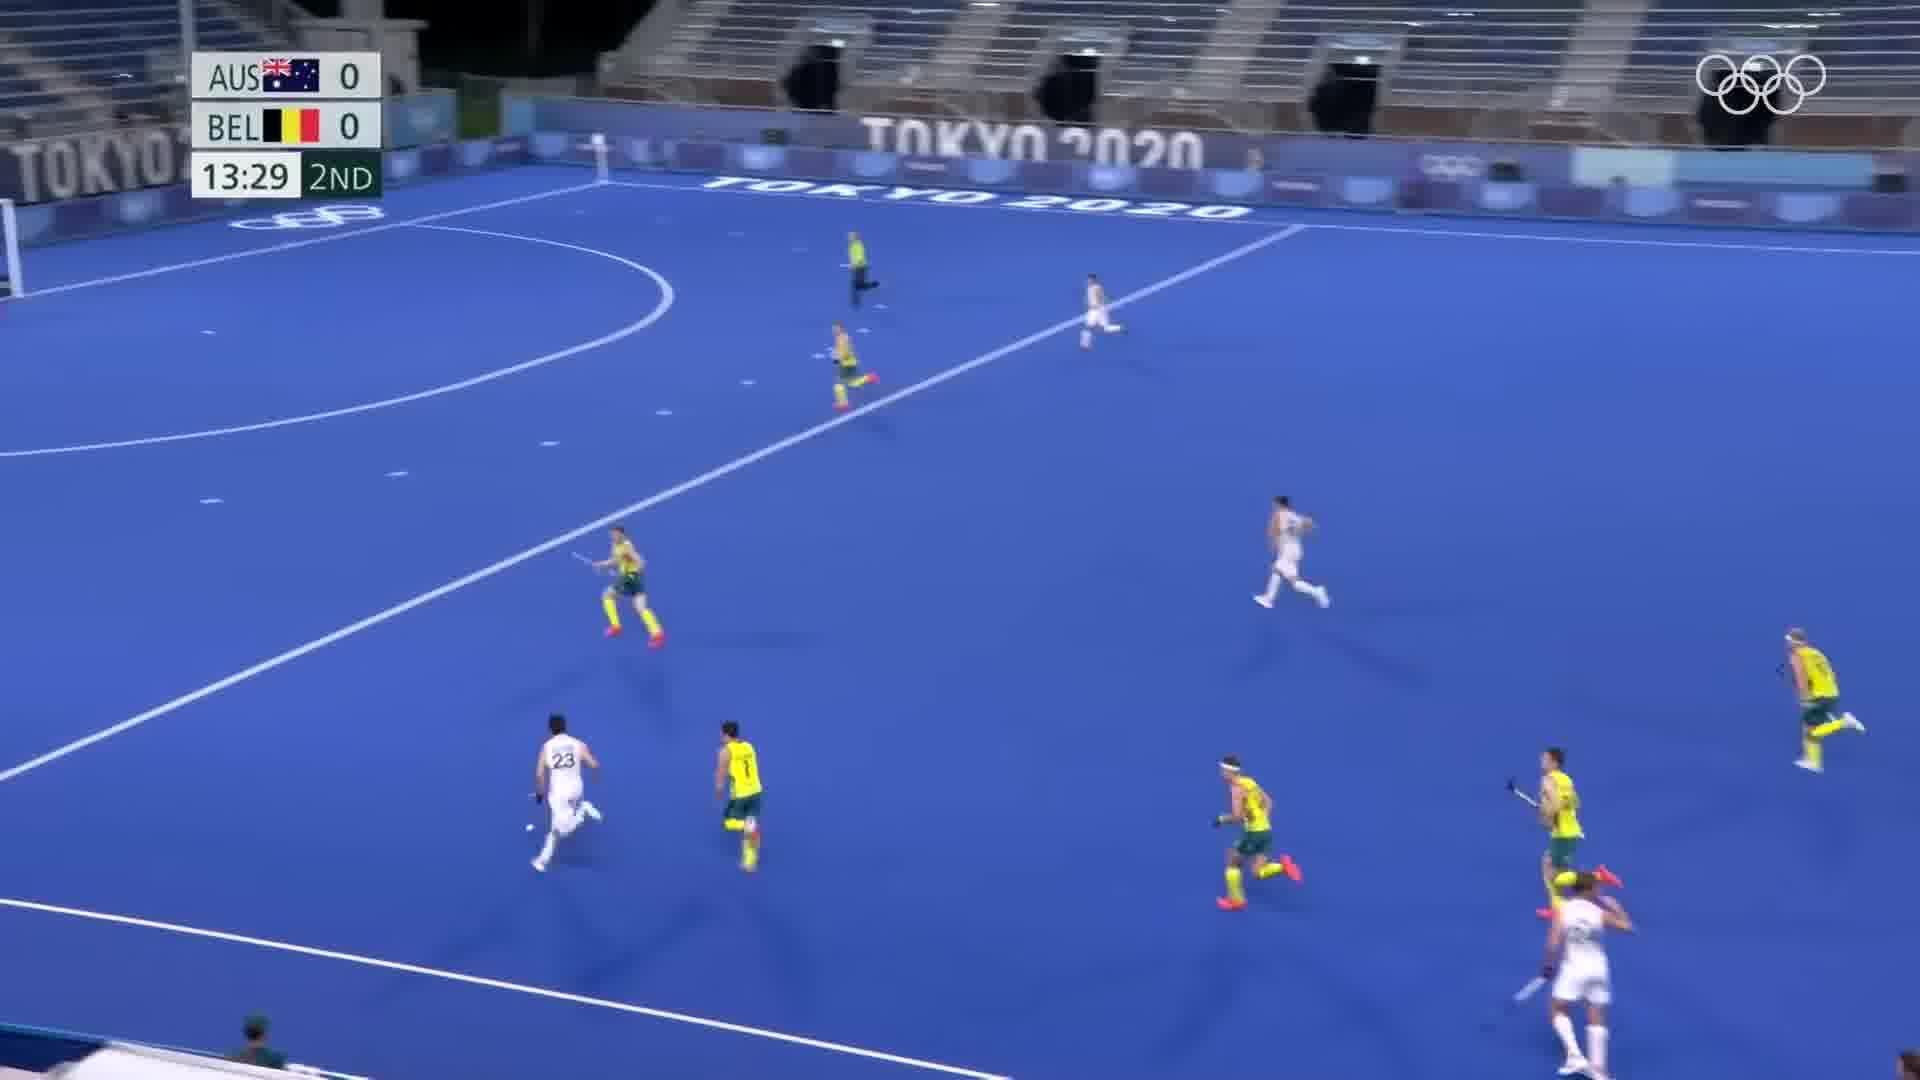ball: (518, 812, 545, 836)
